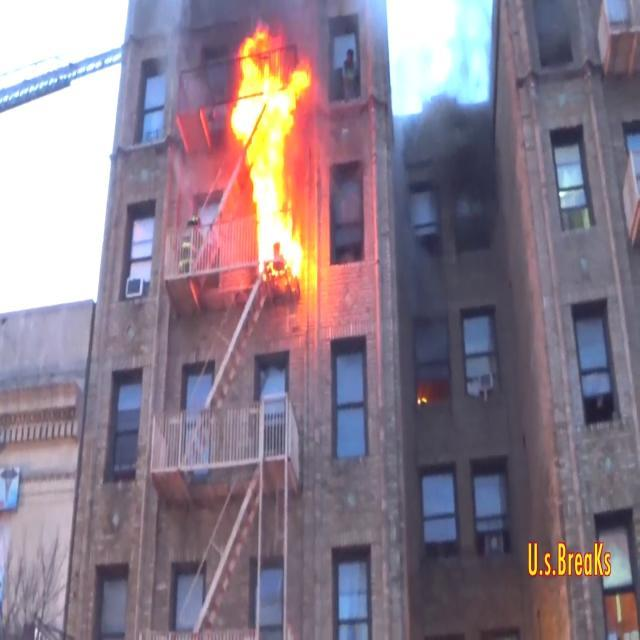Fire: (230, 17, 310, 280)
